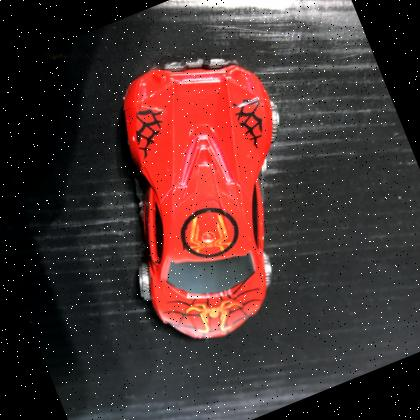Car: (55, 22, 356, 368)
